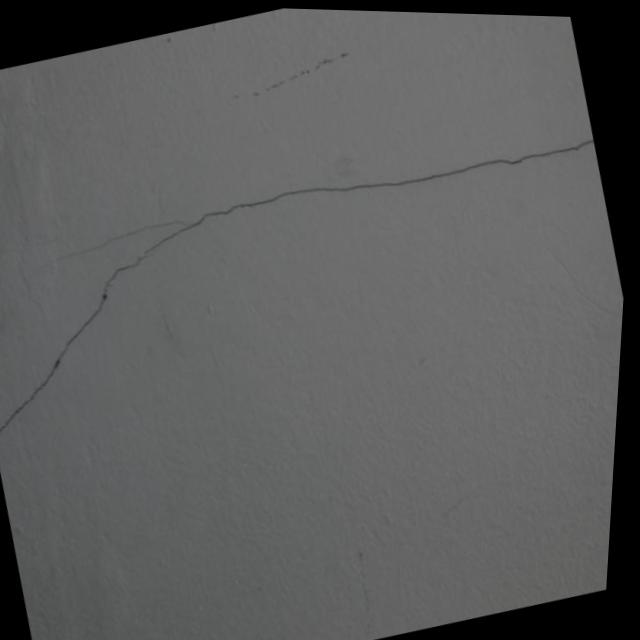Crack: (0, 99, 635, 461)
